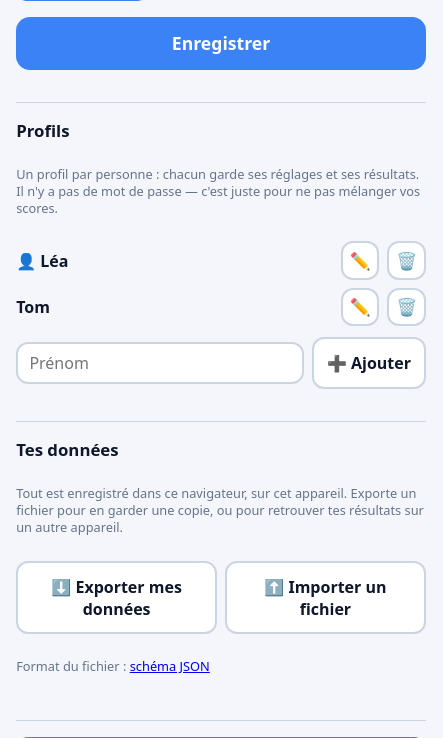
it: creating a profile › refuses a name another profile already uses, whatever the case
(page scrolled)
Type "tom" into the field labelled "Prénom" at (160, 363), box [16, 342, 304, 384]
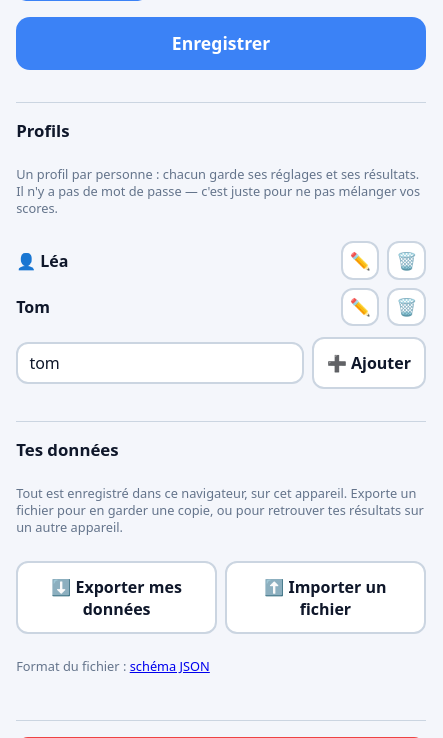
Click the button "➕ Ajouter" at (369, 363), box [312, 337, 426, 389]
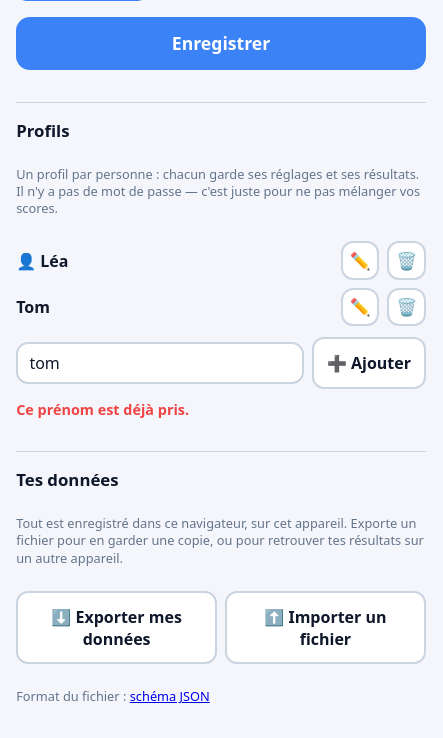
Check: the message shows "déjà pris", box [16, 400, 189, 419]
